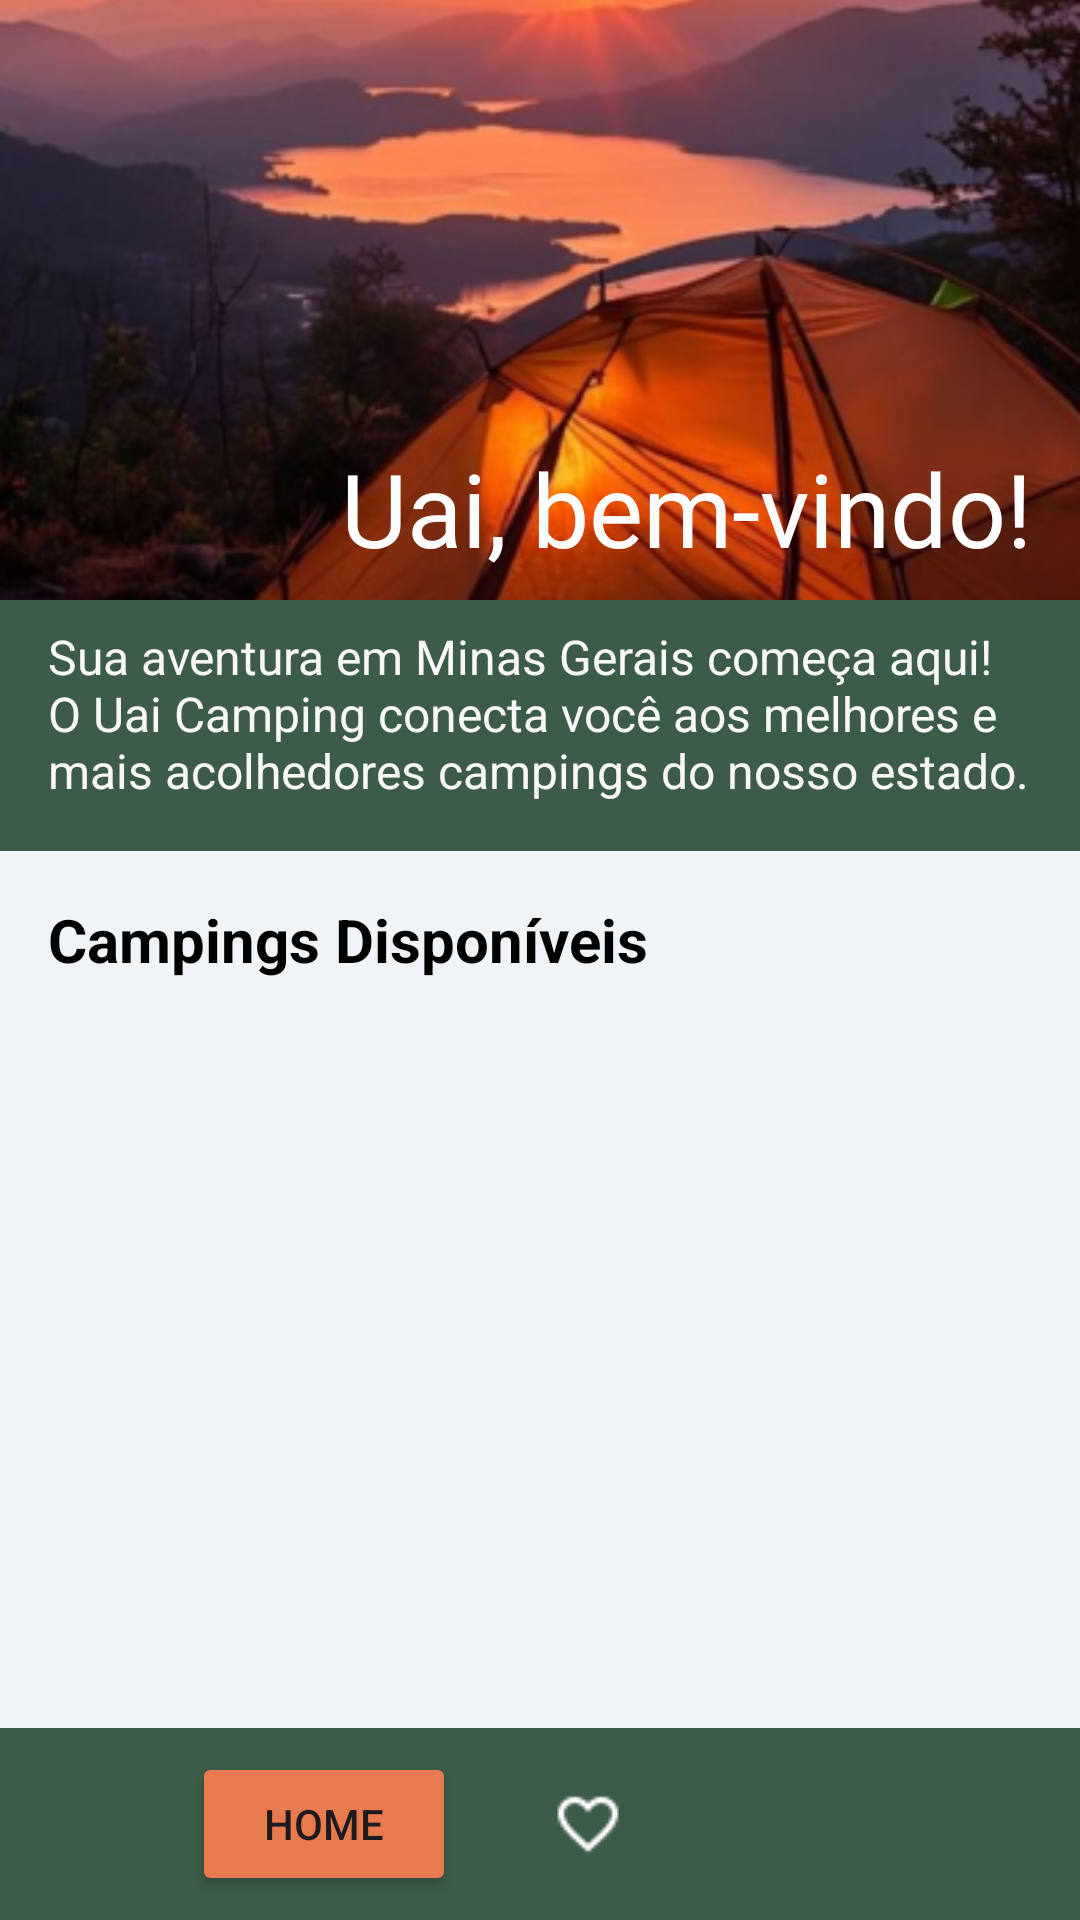

Icons on this 1080px x 1920px Android screen, each with its box as (x1, y1, x2, y2):
Favoritos: (557, 1796, 619, 1852)
